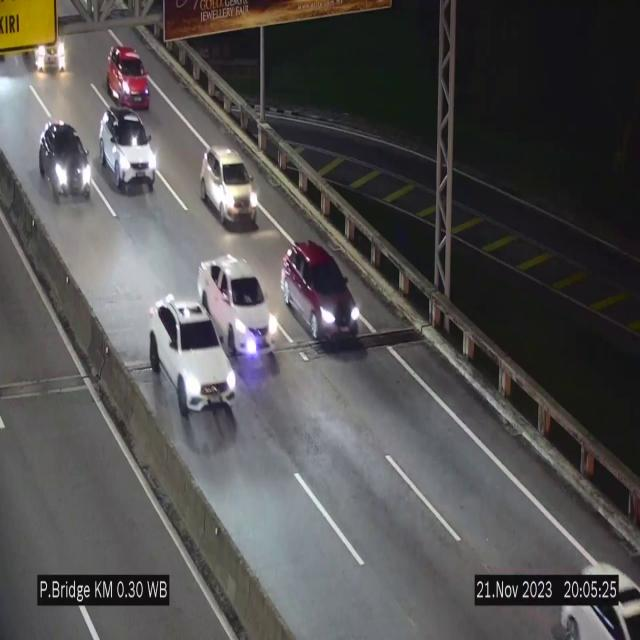Car: (150, 298, 236, 426), (200, 250, 280, 356), (281, 240, 362, 344), (555, 543, 640, 640), (99, 108, 157, 192), (200, 147, 258, 226), (38, 127, 97, 204), (107, 44, 149, 108), (27, 31, 69, 78)
